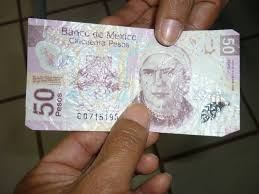billete: (25, 17, 241, 137)
